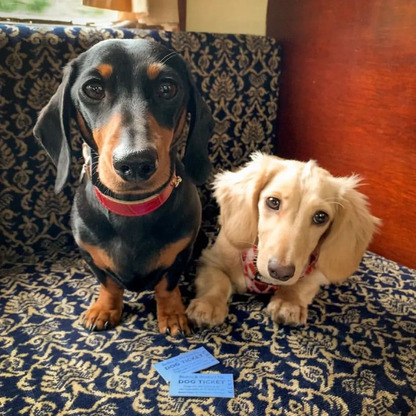dachshund: (43, 31, 204, 334), (218, 133, 383, 328)
